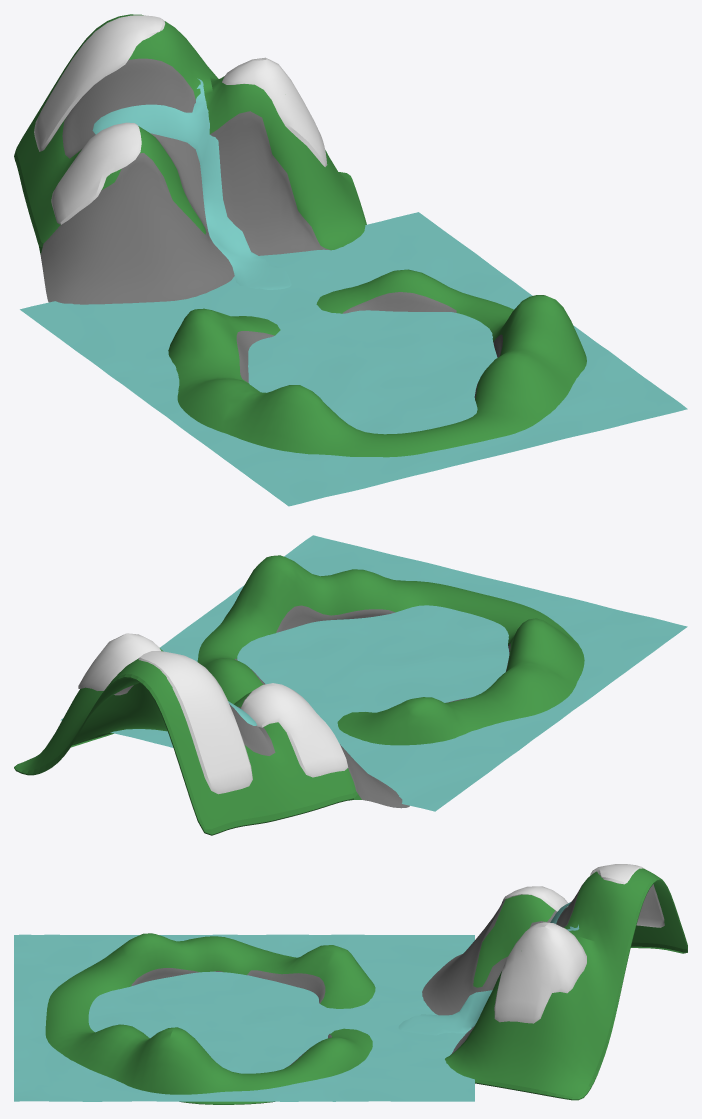
Rendered from cenario.fbx.
The picture shows the model from 3 angles, top to bottom: view 1: azimuth 30°, elevation 25°; view 2: azimuth 150°, elevation 25°; view 3: azimuth 270°, elevation 25°; orthographic projection. The views are drawn at different scales.
Parts seen in each view (by area): view 1: Plane, Plane.001, Torus, Plane.003, Plane.002; view 2: Plane, Torus, Plane.001, Plane.003; view 3: Plane, Plane.001, Torus, Plane.003, Plane.002.
Part boxes in pixels (box(x1,y1,x2,y2)): Plane: box(20, 212, 687, 506); Plane.001: box(14, 14, 366, 304); Torus: box(168, 269, 586, 457); Plane.003: box(34, 15, 327, 224); Plane.002: box(92, 78, 291, 289); Plane: box(60, 535, 687, 811); Torus: box(197, 555, 584, 745); Plane.001: box(14, 648, 409, 835); Plane.003: box(78, 633, 348, 794); Plane: box(14, 934, 474, 1101); Plane.001: box(422, 868, 687, 1100); Torus: box(45, 933, 375, 1104); Plane.003: box(494, 864, 664, 1023); Plane.002: box(398, 902, 579, 1035).
Bounding box in the file's own units: 271 × 126 × 463.
